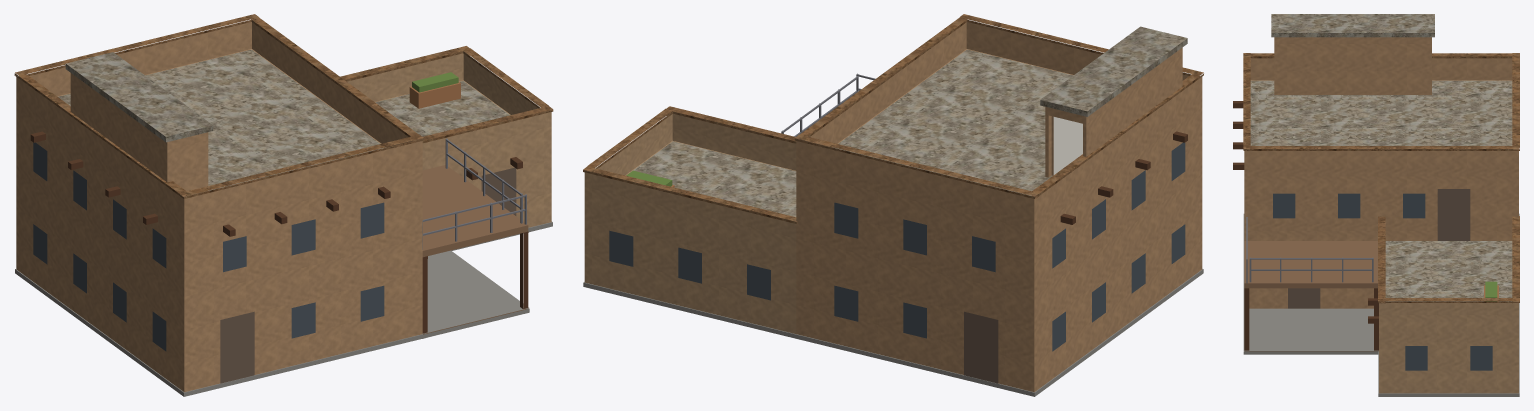
File: cr-adobe-courtyard.zfix-v22.lod1.glb
3 renders of one model, left to right at view 1: azimuth 30°, elevation 25°; view 2: azimuth 150°, elevation 25°; view 3: azimuth 270°, elevation 25°, orthographic. The views are drawn at different scales.
Visible parts, largest first — view 1: cr-adobe-courtyard; view 2: cr-adobe-courtyard; view 3: cr-adobe-courtyard.
Boxes of the visible parts, <box> form: cr-adobe-courtyard: <box>14,14,553,396</box>; cr-adobe-courtyard: <box>583,14,1203,396</box>; cr-adobe-courtyard: <box>1233,14,1519,396</box>.
Size of the model in its own units: 17.51 by 8.97 by 11.49.
Materials: 3 (2 with a texture image).
